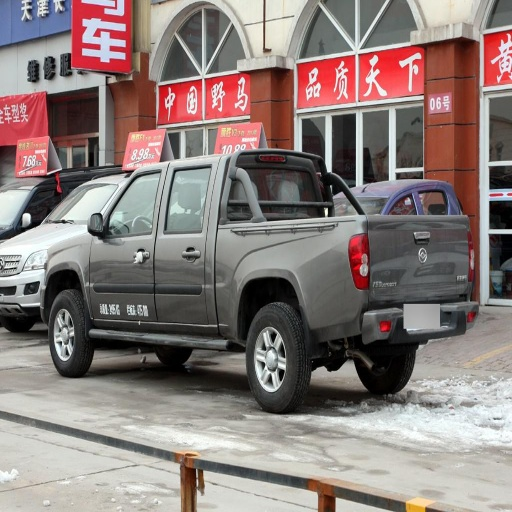_background_: (352, 288, 452, 342)
back_bumper: (269, 170, 326, 202)
back_glass: (154, 192, 205, 320)
back_left_door: (348, 233, 369, 289)
back_right_light: (16, 269, 48, 309)
front_glass: (89, 171, 163, 323)
tailgate: (199, 222, 364, 346), (353, 216, 474, 315)
trunk: (247, 303, 307, 413), (50, 290, 91, 377), (356, 346, 415, 392)
